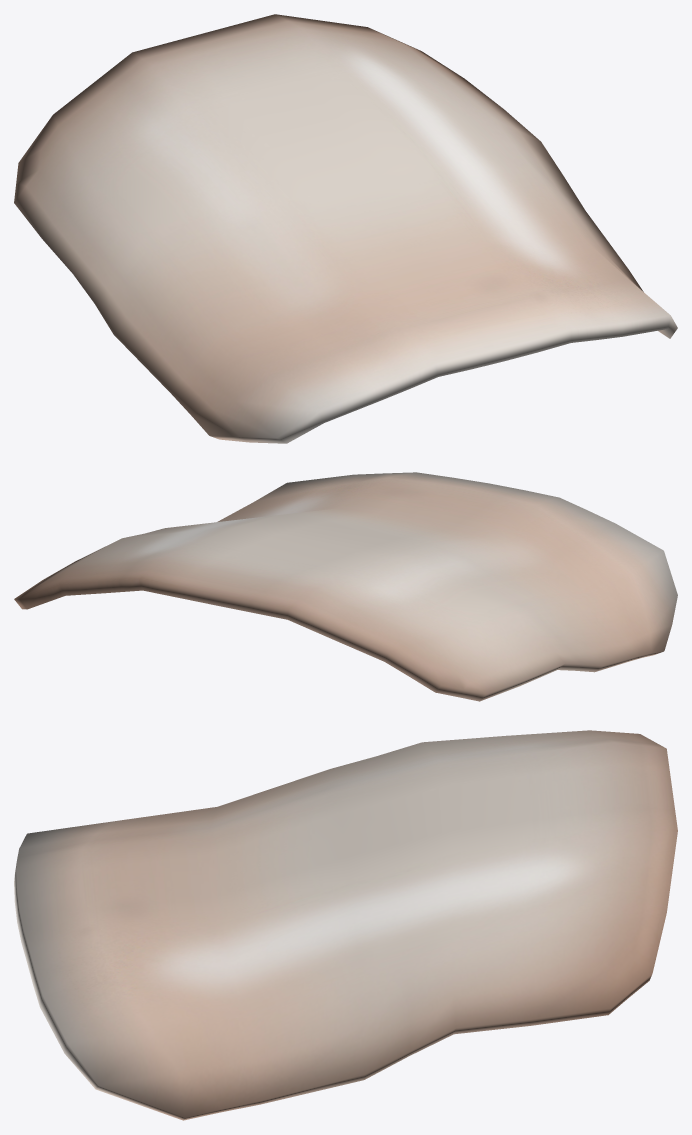
The model's file is Normal Nail .fbx.
3 views of the same model, one above another, from view 1: azimuth 30°, elevation 25°; view 2: azimuth 150°, elevation 25°; view 3: azimuth 270°, elevation 25° (orthographic). The views are drawn at different scales.
Visible parts, largest first — view 1: Hand.005; view 2: Hand.005; view 3: Hand.005.
Boxes of the visible parts, bbox=[...] form: Hand.005: bbox=[14, 14, 677, 443]; Hand.005: bbox=[14, 472, 677, 701]; Hand.005: bbox=[14, 730, 677, 1120].
Bounding box in the file's own units: 80.64 × 30.04 × 84.74.
1 material, 1 textured.
